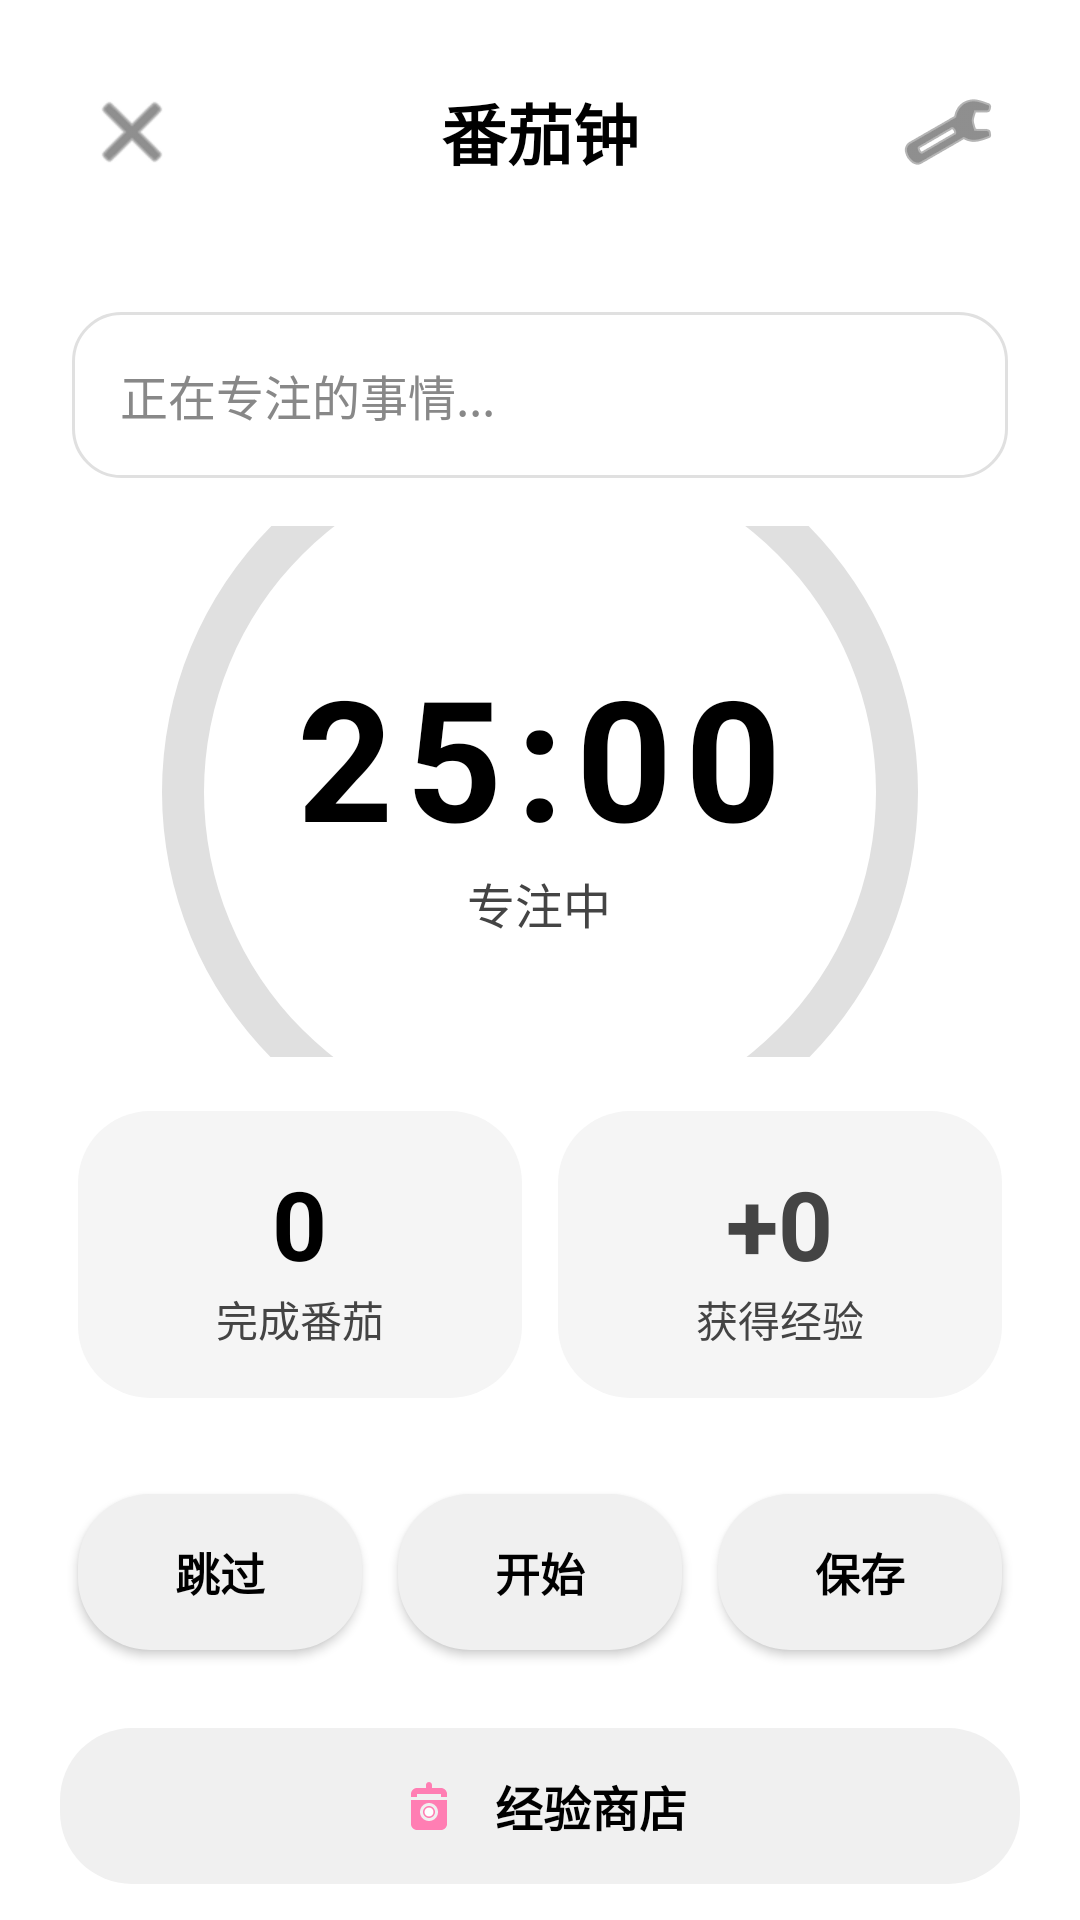

Named icons in this screenshot (1080×1920) and their bounding boxes, (x1, y1, x2, y2):
商店图标: (411, 1782, 447, 1830)
设置: (905, 99, 991, 165)
返回: (102, 102, 162, 162)
